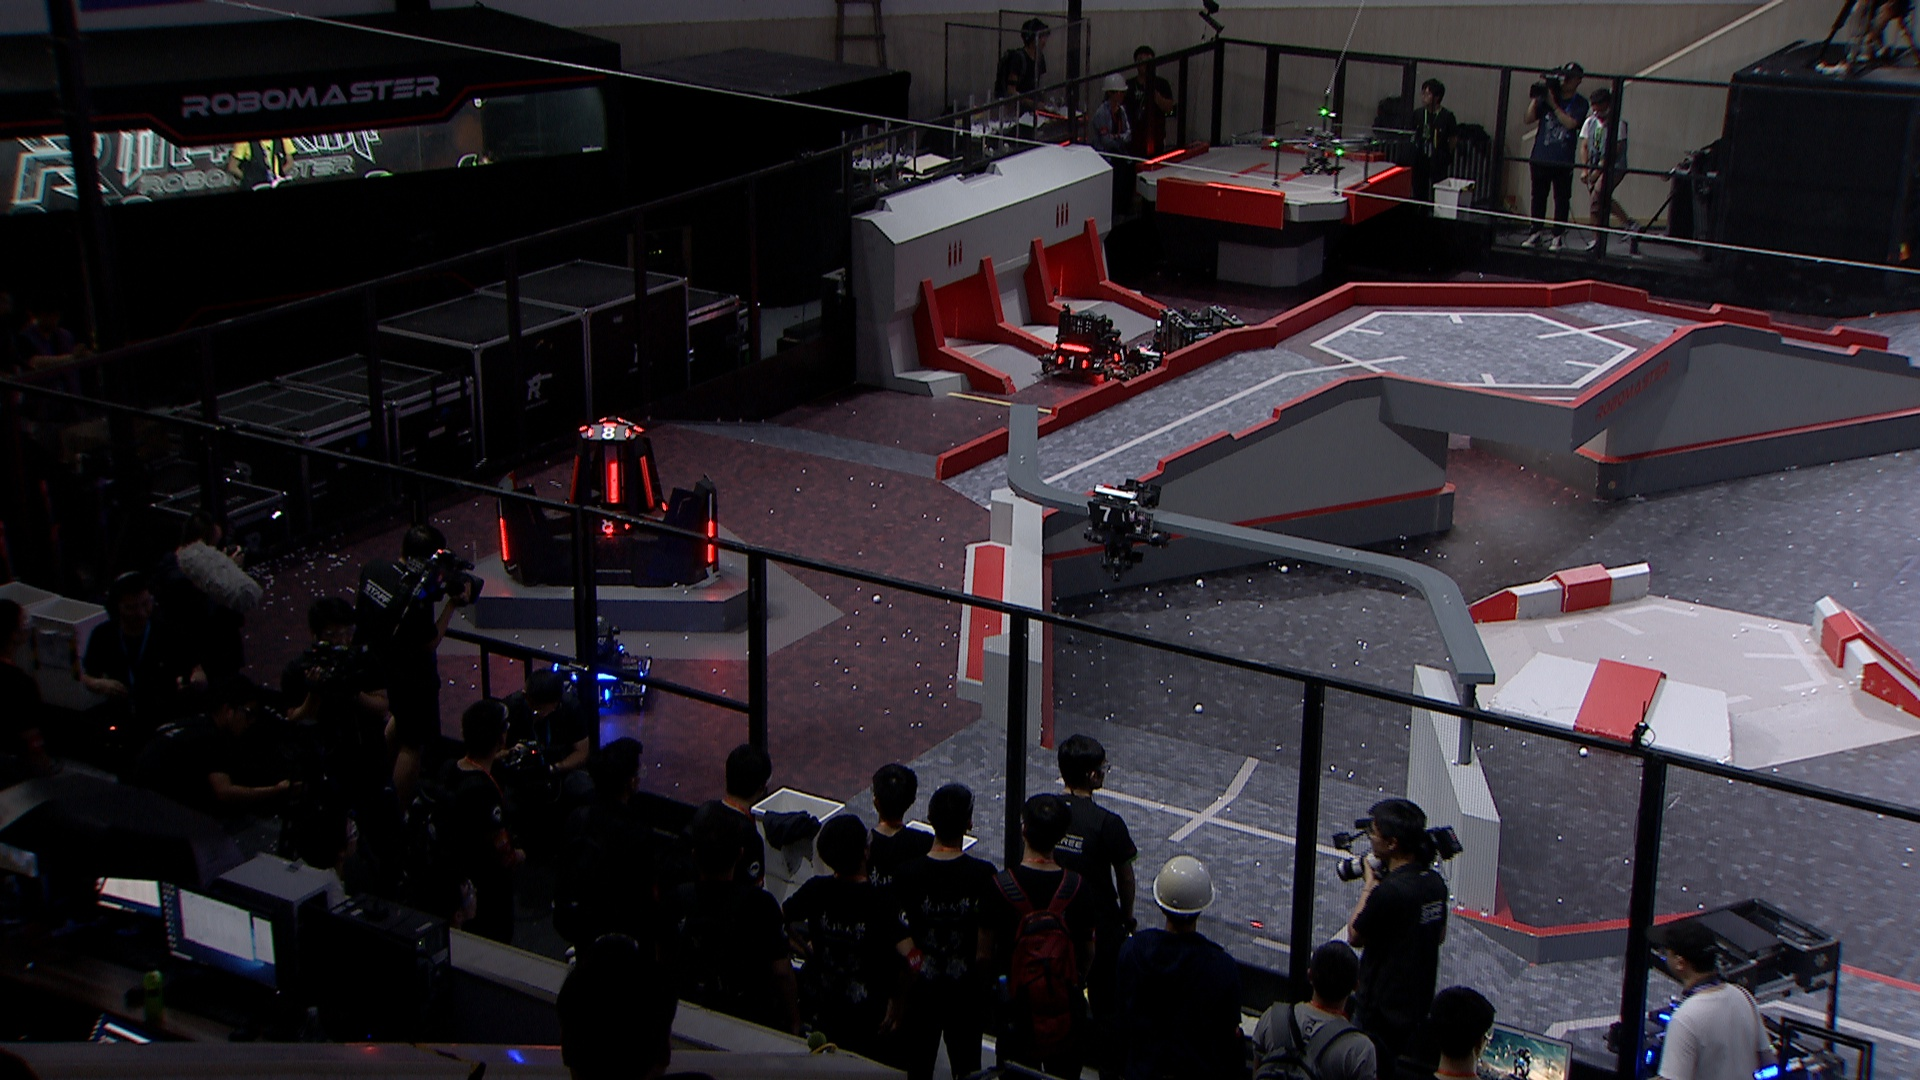armor: (1083, 502, 1129, 526), (638, 454, 657, 512), (564, 454, 582, 506), (603, 462, 622, 506), (585, 425, 633, 442), (496, 513, 512, 564), (593, 517, 632, 537), (1054, 353, 1091, 372), (703, 518, 717, 564), (1112, 344, 1133, 363), (1139, 360, 1156, 377)
base: (495, 414, 719, 589)
car: (1604, 895, 1841, 1080), (542, 615, 655, 712), (1154, 305, 1245, 398), (1036, 301, 1134, 381), (1124, 327, 1188, 385)
watcher: (1079, 476, 1172, 584)
